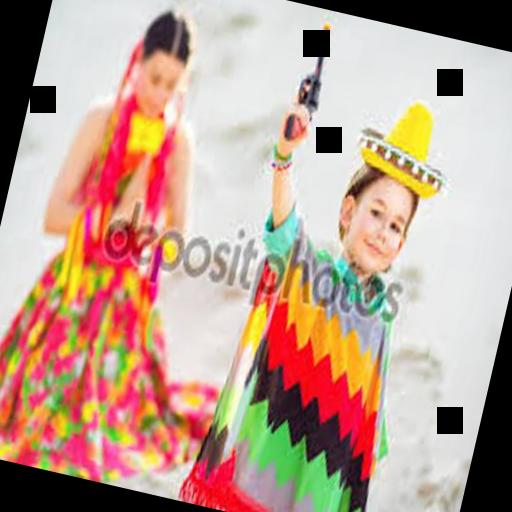Handgun: (274, 20, 344, 154)
